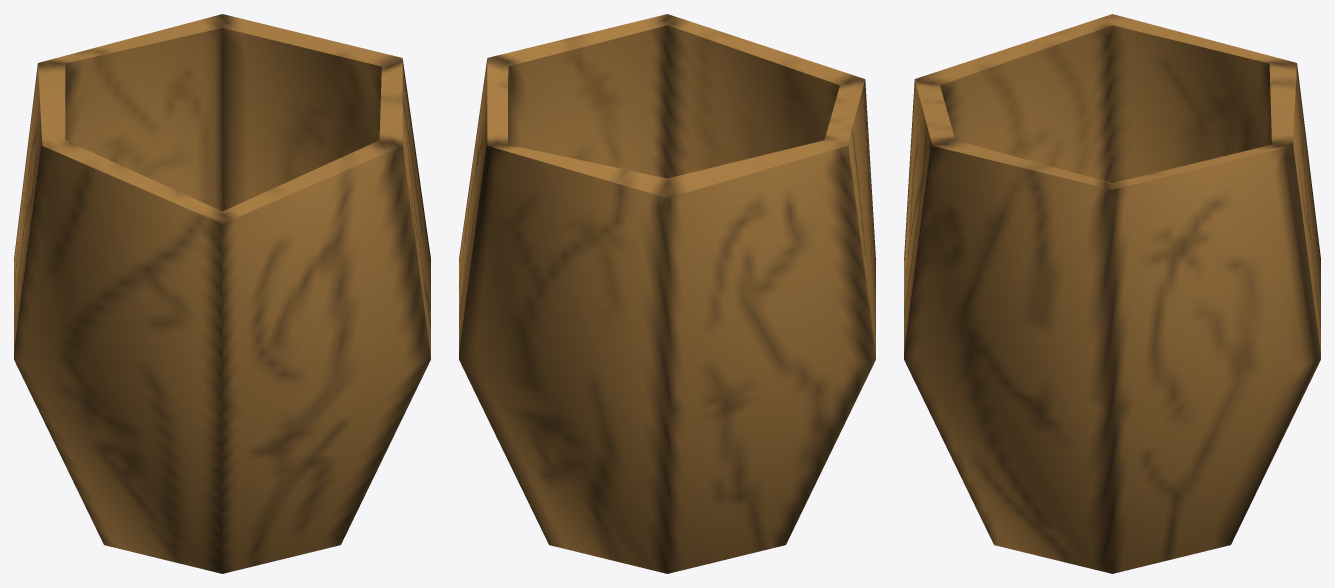
Rendered from Bucket.FBX.
The picture shows the model from 3 angles, left to right: view 1: azimuth 30°, elevation 25°; view 2: azimuth 150°, elevation 25°; view 3: azimuth 270°, elevation 25°; orthographic projection.
Parts seen in each view (by area): view 1: Cylinder001; view 2: Cylinder001; view 3: Cylinder001.
Part boxes in pixels (x1,y1,x2,y2): Cylinder001: (14, 14, 430, 573); Cylinder001: (459, 14, 875, 573); Cylinder001: (904, 14, 1320, 573).
Bounding box in the file's own units: 42.11 × 40 × 36.47.
